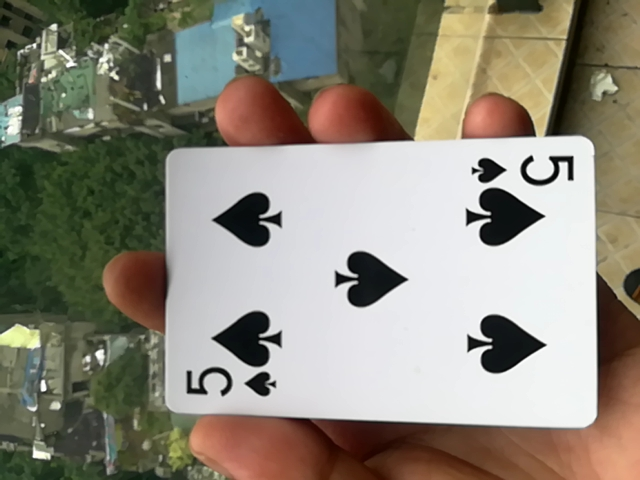ht 5: (141, 133, 594, 439)
